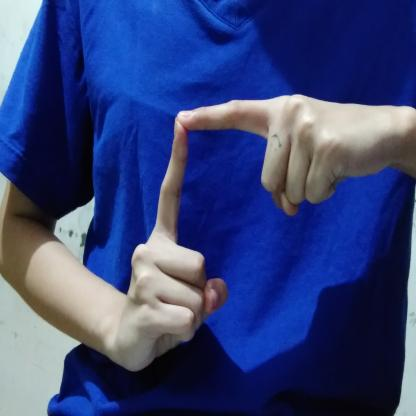when: (110, 87, 416, 380)
